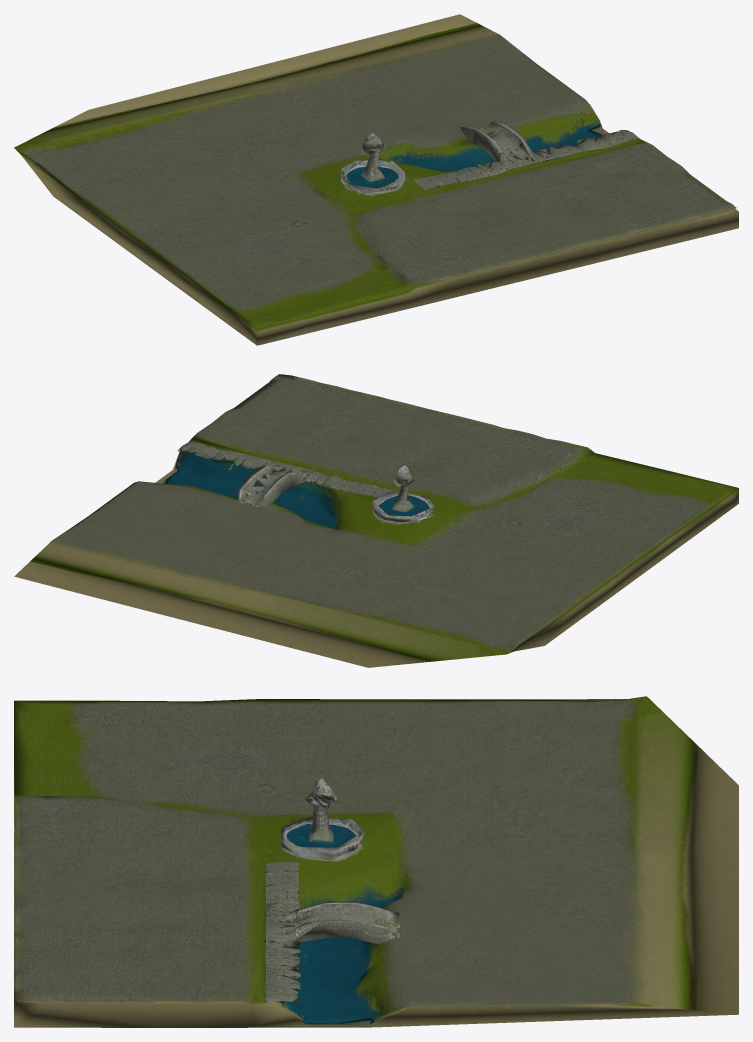
Rendered from city_ground_b.glb.
3 renders of one model, top to bottom at view 1: azimuth 30°, elevation 25°; view 2: azimuth 150°, elevation 25°; view 3: azimuth 270°, elevation 25°, orthographic. The views are drawn at different scales.
Visible parts, largest first — view 1: tripo_node_62be5d87-d879-4148-ab5e-ea0169b22da2; view 2: tripo_node_62be5d87-d879-4148-ab5e-ea0169b22da2; view 3: tripo_node_62be5d87-d879-4148-ab5e-ea0169b22da2.
Boxes of the visible parts, x1,y1,x2,y2 form: tripo_node_62be5d87-d879-4148-ab5e-ea0169b22da2: [14, 14, 738, 345]; tripo_node_62be5d87-d879-4148-ab5e-ea0169b22da2: [14, 374, 738, 667]; tripo_node_62be5d87-d879-4148-ab5e-ea0169b22da2: [14, 696, 738, 1027].
Size of the model in its own units: 0.9763 by 0.1374 by 0.9786.
Materials: 1 (1 with a texture image).
